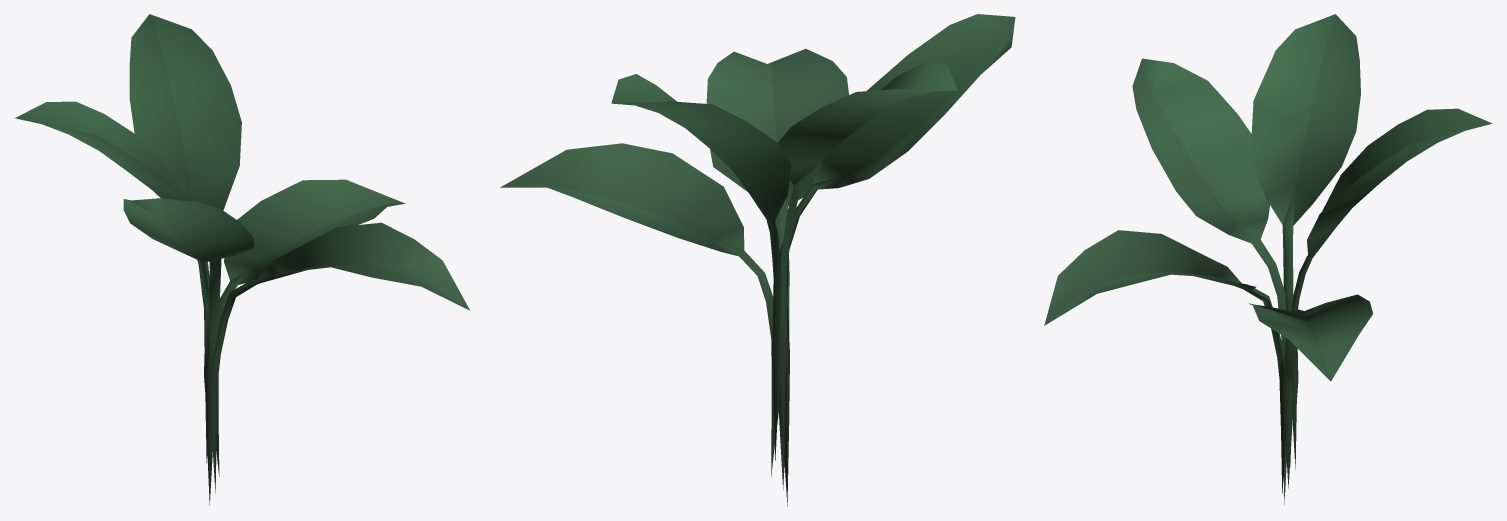
File: plants-leafy-plants-broadleaf-plant_v13.glb
3 renders of one model, left to right at view 1: azimuth 30°, elevation 25°; view 2: azimuth 150°, elevation 25°; view 3: azimuth 270°, elevation 25°, orthographic. The views are drawn at different scales.
Parts seen in each view (by area): view 1: Broadleaf Plant_v13; view 2: Broadleaf Plant_v13; view 3: Broadleaf Plant_v13.
Boxes of the visible parts, x1,y1,x2,y2 form: Broadleaf Plant_v13: (15,14,469,505); Broadleaf Plant_v13: (500,14,1015,506); Broadleaf Plant_v13: (1044,14,1492,504).
Bounding box in the file's own units: 0.594 × 0.6 × 0.5944.
